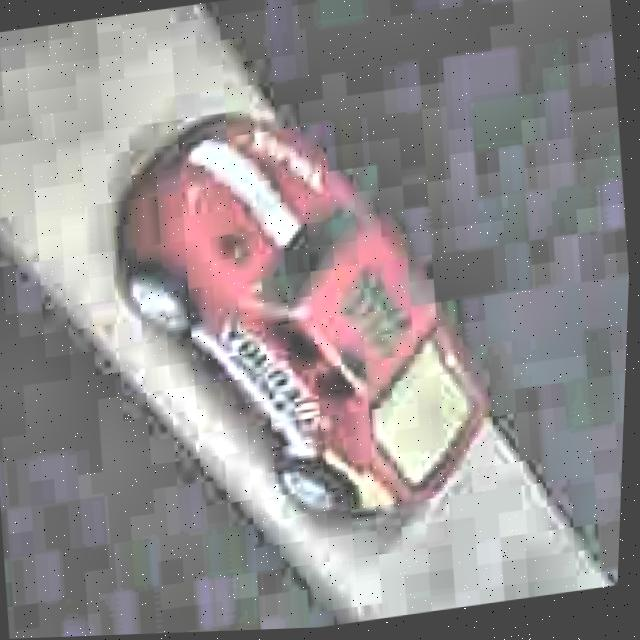car: (82, 70, 519, 559)
